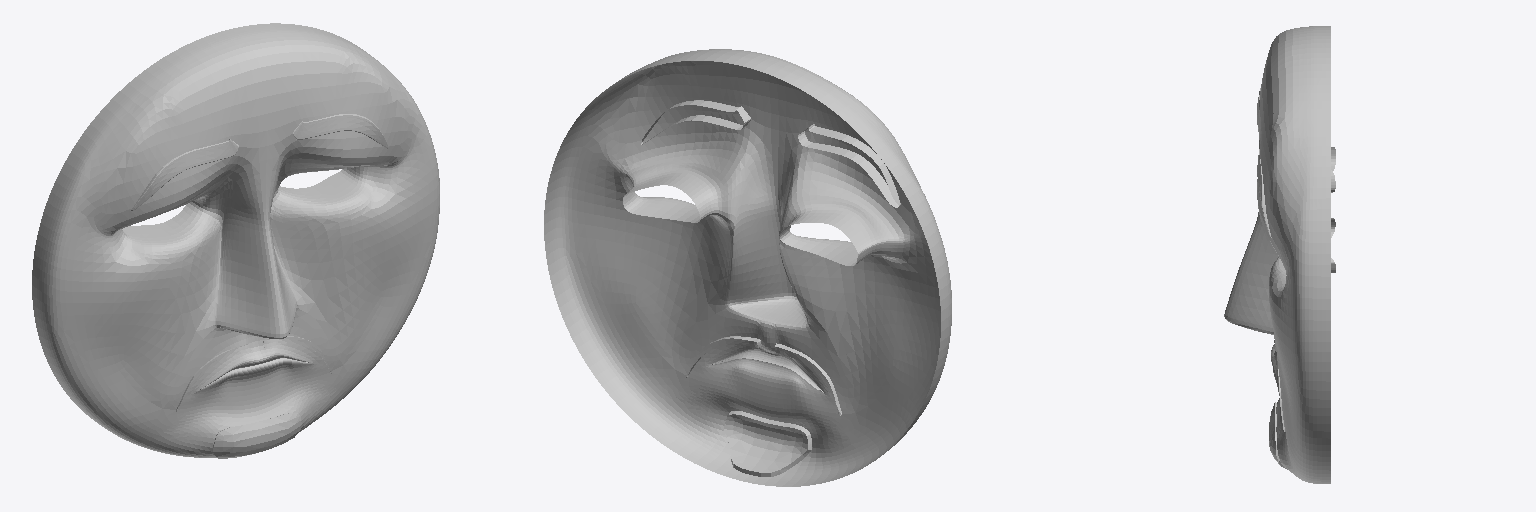
Rendered from Tired.obj.
3 views of the same model, side by side, from view 1: azimuth 30°, elevation 25°; view 2: azimuth 150°, elevation 25°; view 3: azimuth 270°, elevation 25° (orthographic).
Visible parts, largest first — view 1: Circle.066_Circle.084; view 2: Circle.066_Circle.084; view 3: Circle.066_Circle.084.
Boxes of the visible parts, x1,y1,x2,y2 form: Circle.066_Circle.084: [32, 23, 439, 458]; Circle.066_Circle.084: [544, 49, 951, 486]; Circle.066_Circle.084: [1224, 26, 1335, 483].
Bounding box in the file's own units: 50.64 × 50.76 × 12.29.